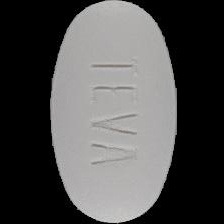67296-0543: (0, 0, 224, 224)
